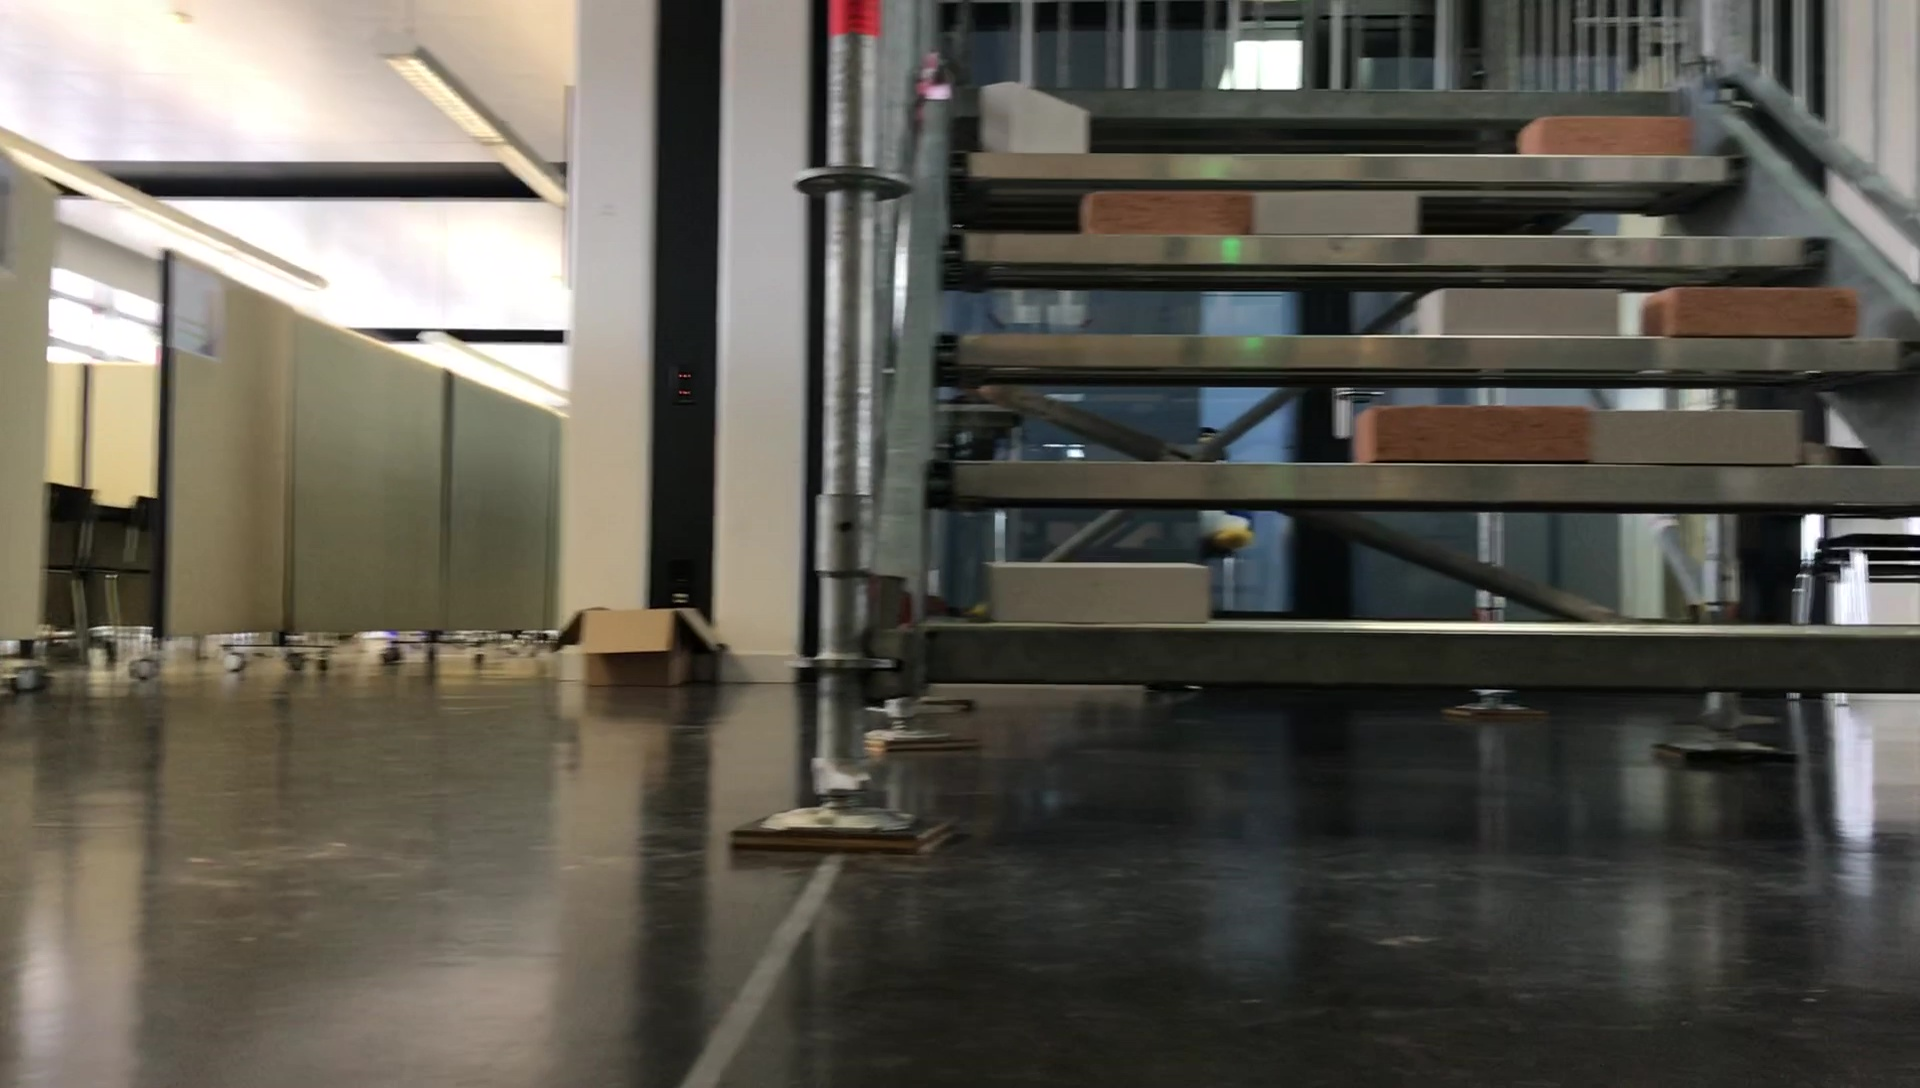brick: (975, 559, 1221, 624), (1596, 400, 1816, 466), (1353, 411, 1590, 464), (1640, 285, 1870, 338), (1420, 285, 1619, 335), (1516, 104, 1698, 154), (963, 88, 1105, 146), (1083, 189, 1255, 233), (1249, 190, 1419, 235)
edge: (928, 615, 1920, 680), (945, 448, 1920, 514), (926, 328, 1907, 378), (960, 135, 1741, 175), (951, 235, 1838, 268), (967, 80, 1691, 115)
stairs: (794, 0, 1920, 872)
steps: (866, 84, 1920, 684)
